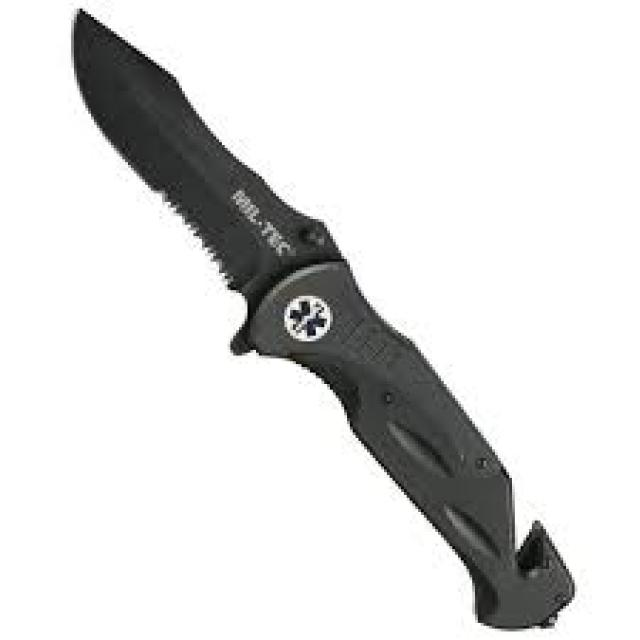knives: (63, 3, 580, 634)
